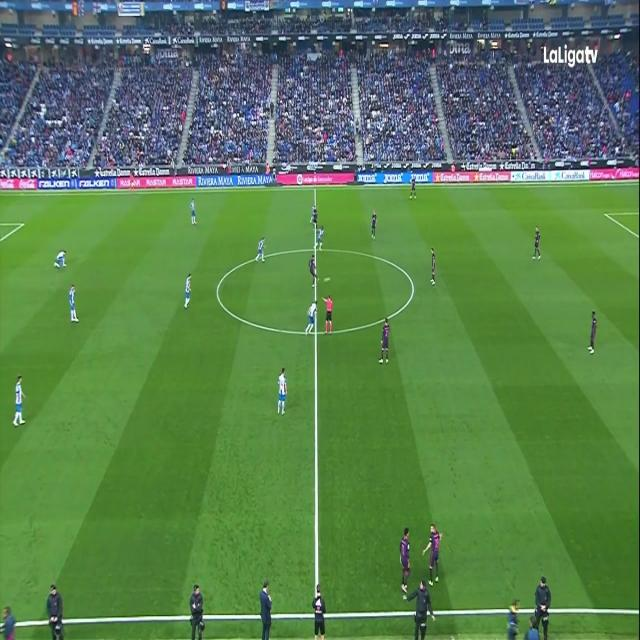Ball: (322, 272, 332, 287)
Player: (422, 524, 443, 586), (400, 525, 414, 595), (12, 373, 28, 434), (275, 366, 289, 418), (377, 316, 391, 368), (304, 298, 320, 336), (587, 309, 599, 358), (68, 284, 80, 326), (184, 270, 194, 314), (254, 235, 268, 266), (308, 256, 320, 290), (52, 248, 69, 271), (532, 224, 542, 262), (428, 247, 436, 289), (368, 209, 378, 241), (408, 175, 418, 201), (314, 225, 324, 251), (190, 198, 198, 226), (312, 206, 319, 233)
Referee: (321, 292, 334, 336)
